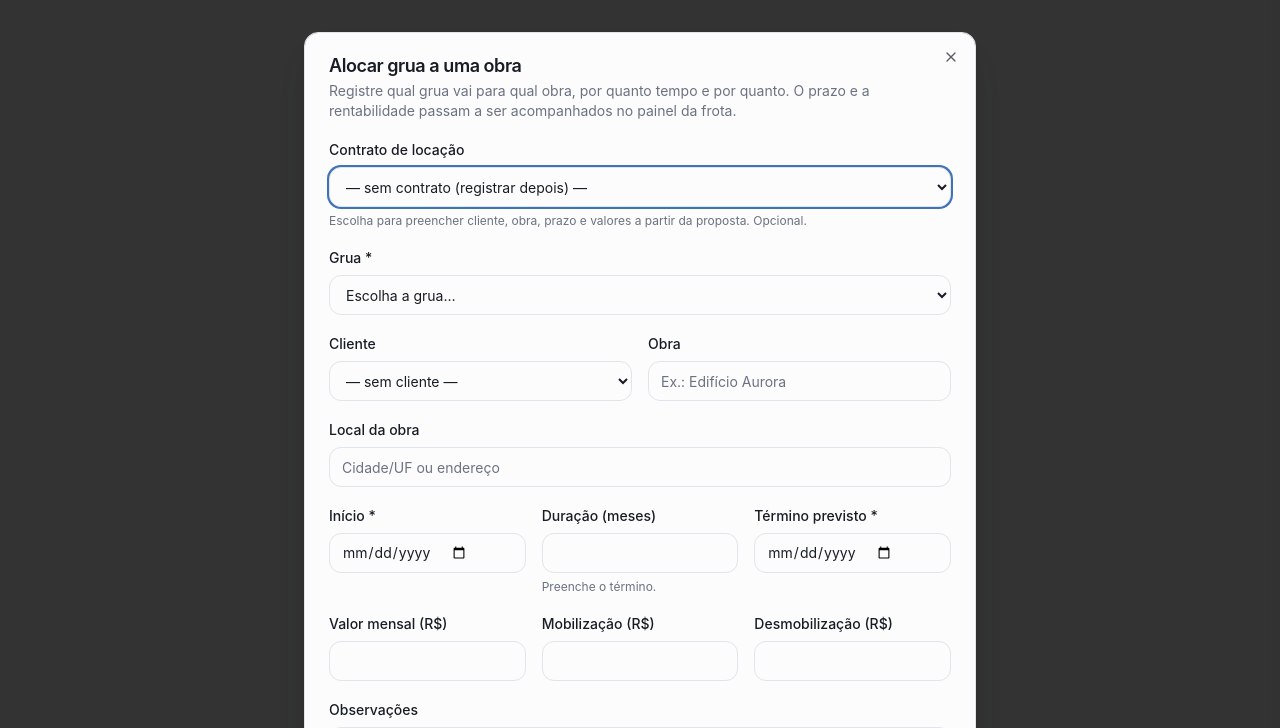
Scenario: alocar grua a uma obra › duração em meses calcula o término (12 meses de 01/03 terminam em 28/02)
This screenshot has width=1280, height=728.
Type "2026-03-01" into the date field labelled "Início *" at (427, 553), box 329,533 -> 526,573
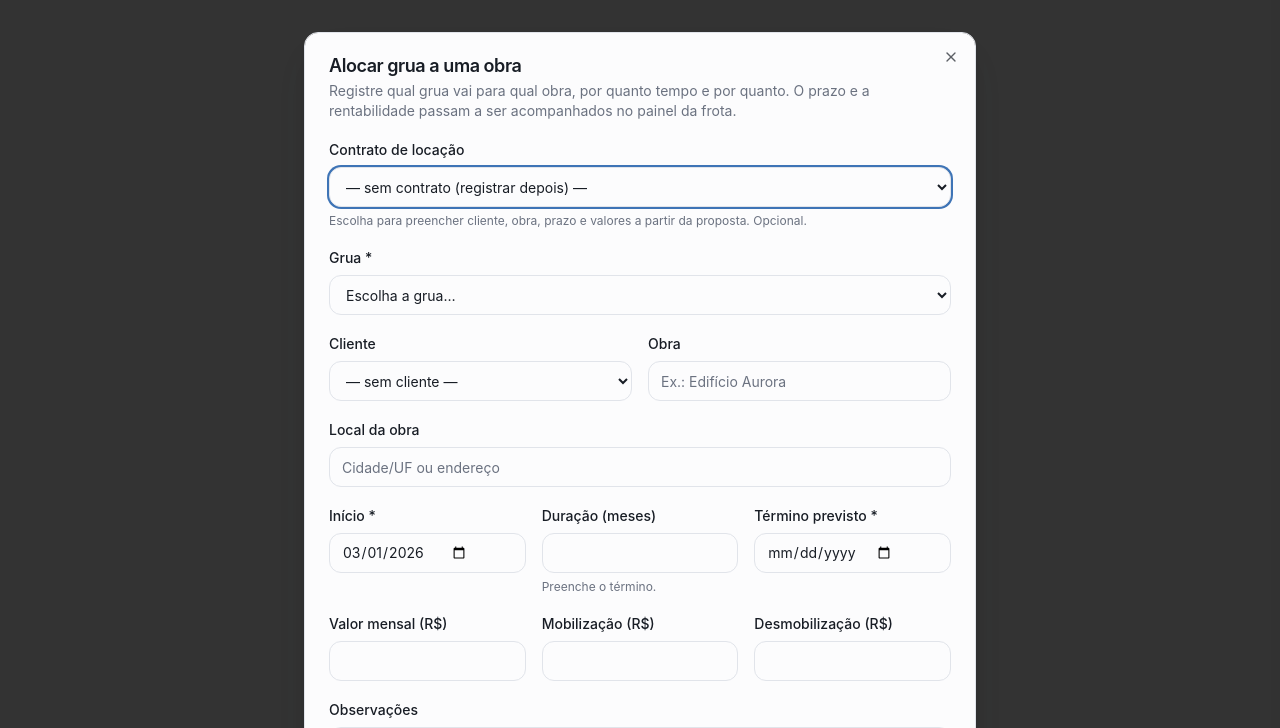
Type "12" into the field labelled "Duração (meses)" at (640, 553), box 542,533 -> 738,573
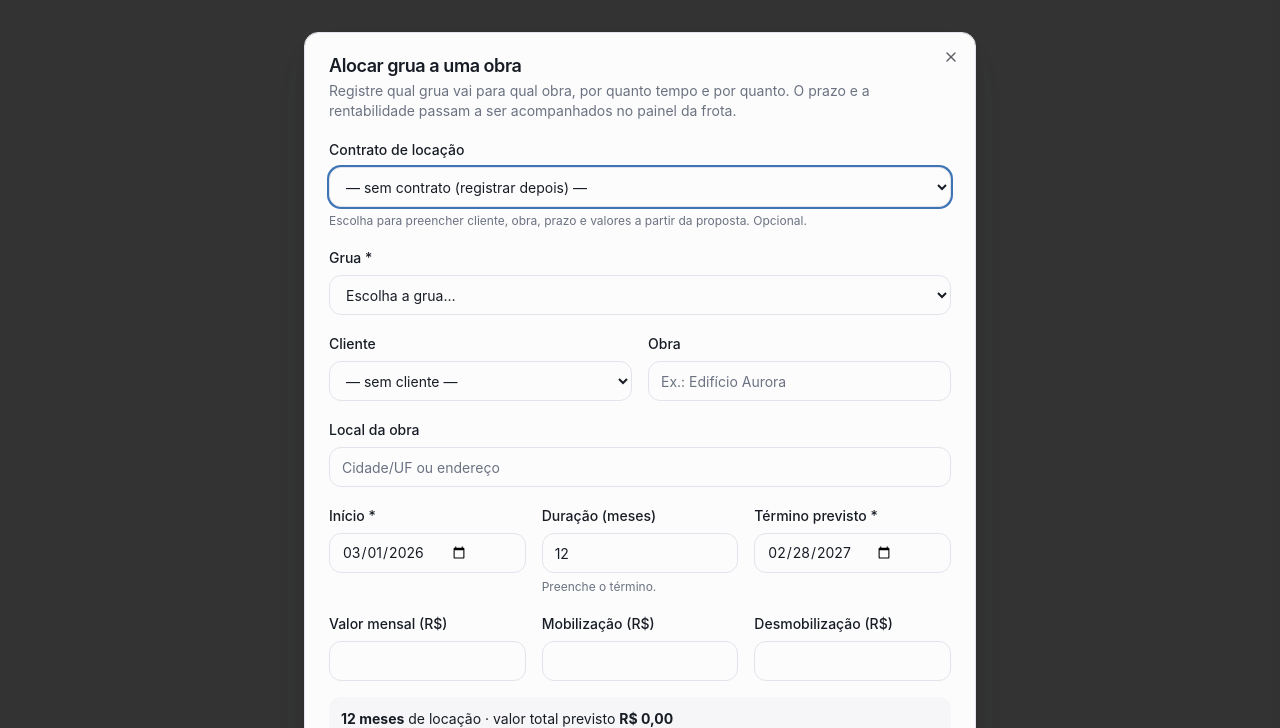
Result: the date field labelled "Término previsto *" holds "2027-02-28"
Type "2026-08-31" into the date field labelled "Término previsto *" at (853, 553), box 754,533 -> 951,573
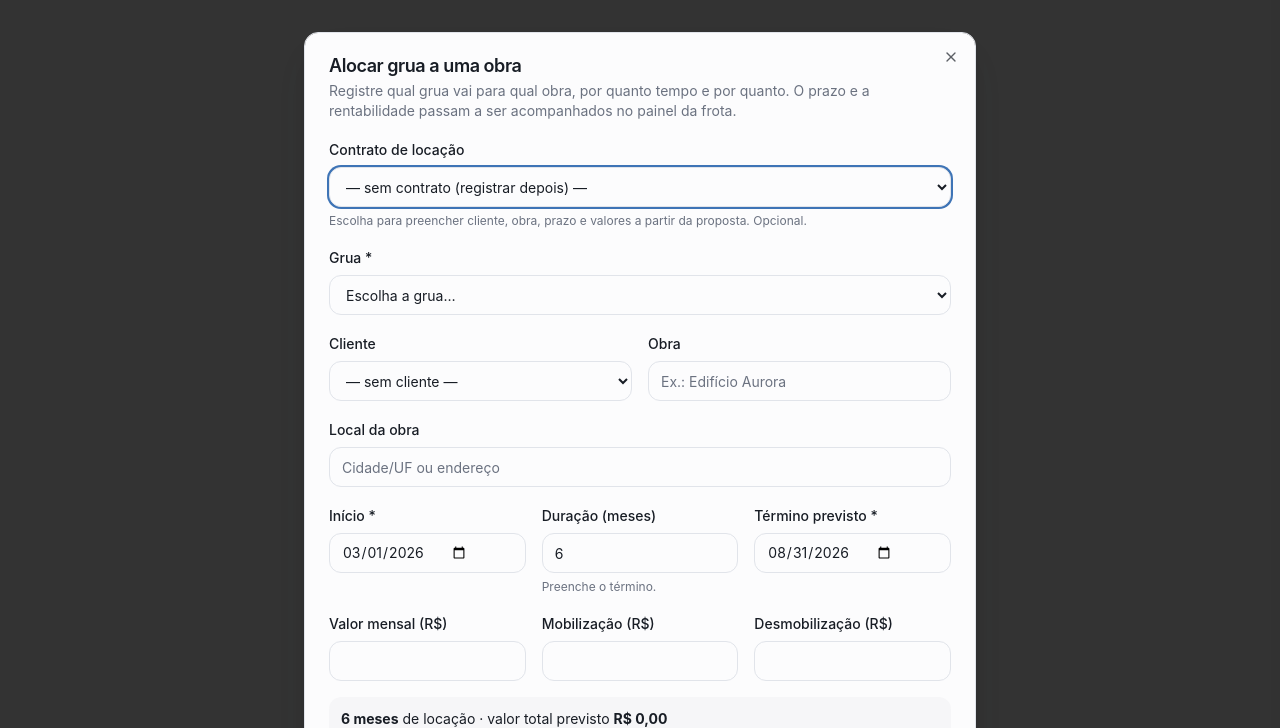
Result: the field labelled "Duração (meses)" holds "6" at 542,533 -> 738,573
